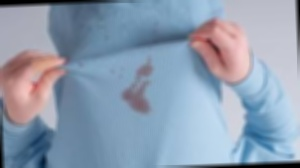blood: (121, 59, 155, 115)
